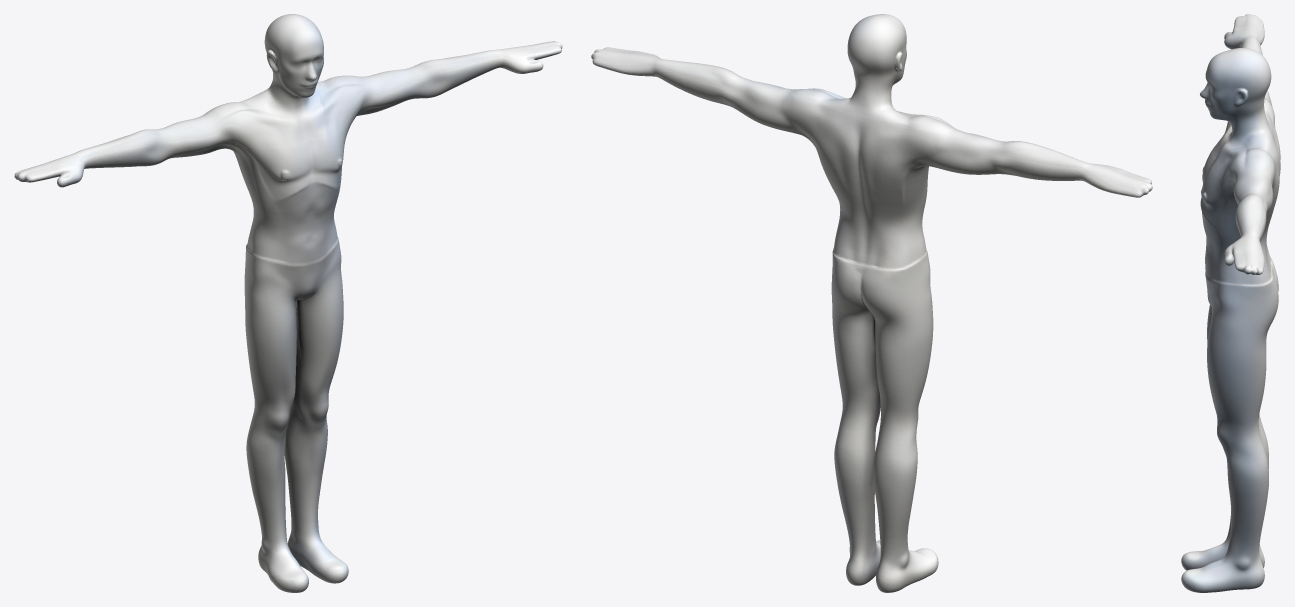
File: avatar.glb
3 views of the same model, side by side, from view 1: azimuth 30°, elevation 25°; view 2: azimuth 150°, elevation 25°; view 3: azimuth 270°, elevation 25° (orthographic). The views are drawn at different scales.
Visible parts, largest first — view 1: tripo_node_e5fd0718-b9c1-4353-8b2a-f75d63489778; view 2: tripo_node_e5fd0718-b9c1-4353-8b2a-f75d63489778; view 3: tripo_node_e5fd0718-b9c1-4353-8b2a-f75d63489778.
Boxes of the visible parts, <box> form: tripo_node_e5fd0718-b9c1-4353-8b2a-f75d63489778: <box>14,14,562,592</box>; tripo_node_e5fd0718-b9c1-4353-8b2a-f75d63489778: <box>591,14,1152,592</box>; tripo_node_e5fd0718-b9c1-4353-8b2a-f75d63489778: <box>1181,14,1280,592</box>.
Bounding box in the file's own units: 1 × 0.9661 × 0.1642.
1 material, 1 textured.
